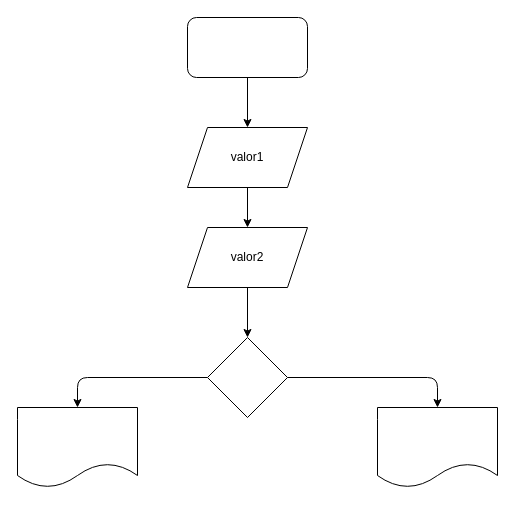
Some shapes in this 515 by 505 pixel diagram are drawn without their labels. Each missing label, with the centre of its shape:
"Inicio" goes at (247,47).
"valor1>valor2" goes at (247,377).
